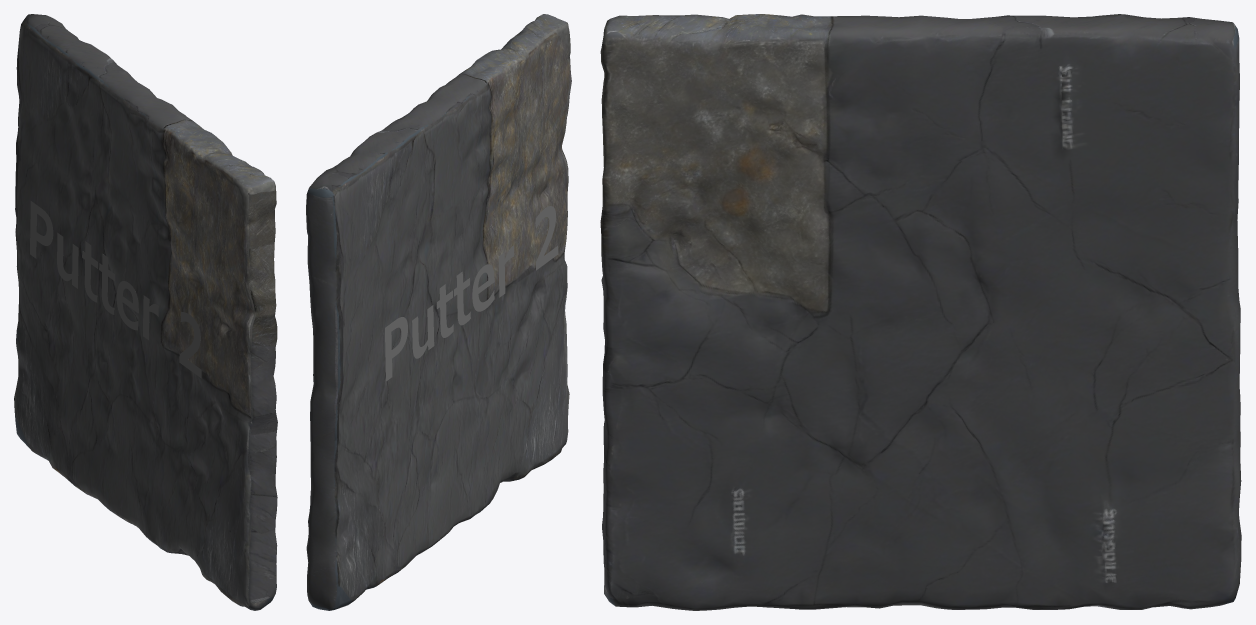
Rendered from Putter2.fbx.
3 views of the same model, side by side, from view 1: azimuth 30°, elevation 25°; view 2: azimuth 150°, elevation 25°; view 3: azimuth 270°, elevation 25° (orthographic). The views are drawn at different scales.
Visible parts, largest first — view 1: input, テキスト プラス002; view 2: input, テキスト プラス002; view 3: input.
Boxes of the visible parts, x1,y1,x2,y2 form: input: [14, 14, 277, 610]; テキスト プラス002: [30, 201, 201, 378]; input: [306, 14, 571, 610]; テキスト プラス002: [385, 206, 558, 381]; input: [600, 14, 1241, 610].
Size of the model in its own units: 23.88 by 198 by 198.
